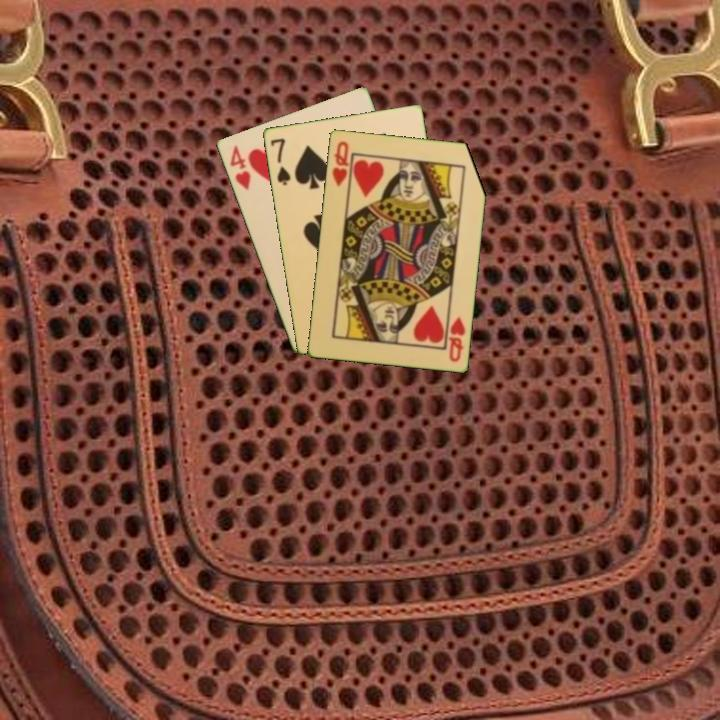4h: (226, 142, 254, 193)
7s: (267, 135, 293, 188)
Qh: (328, 137, 351, 189), (445, 313, 468, 364)
